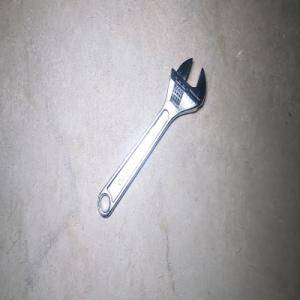Wrench: (97, 57, 206, 217)
